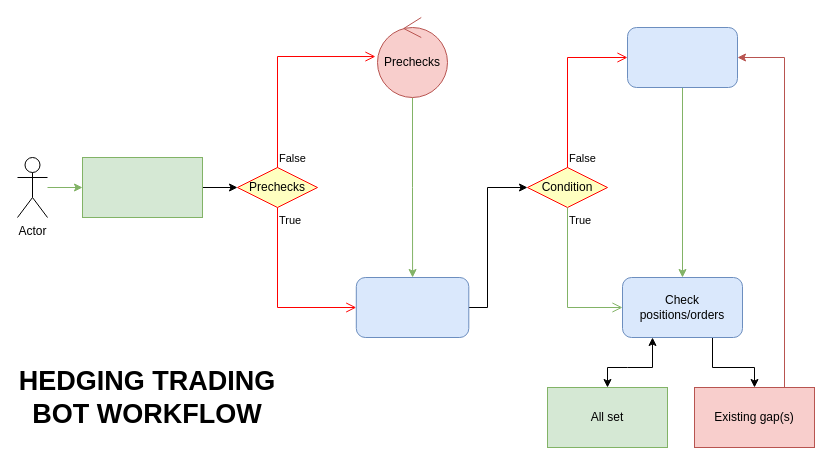
This 832x465 diagram has some shape labels left out. The centre of each missing label's shape, as x and y in pixels:
"Launch EA" belongs at [142,187].
"Place pending orders" belongs at [682,57].
"Positions exist" belongs at [412,307].
